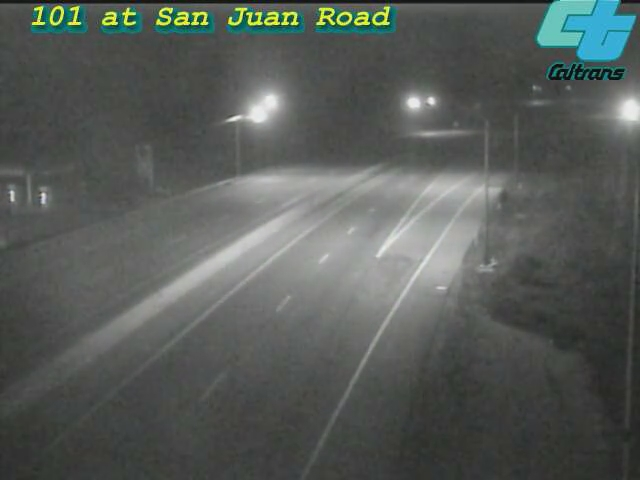vehicle: (604, 85, 640, 135)
